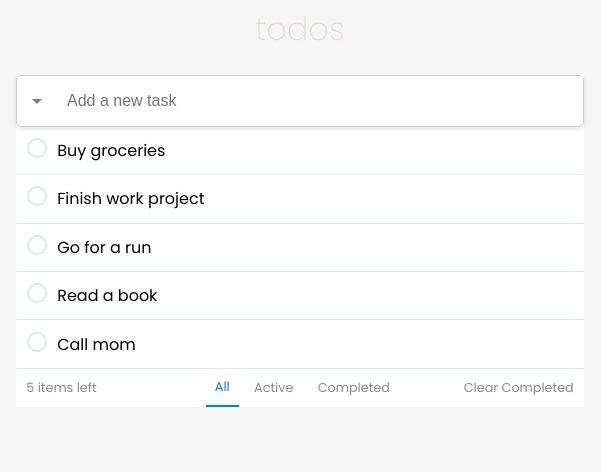
Test: Notes App funcionality › should add a new note
In the field with id "new-note-input": (317, 101) x1=59 y1=84 x2=575 y2=118, type "New Note"
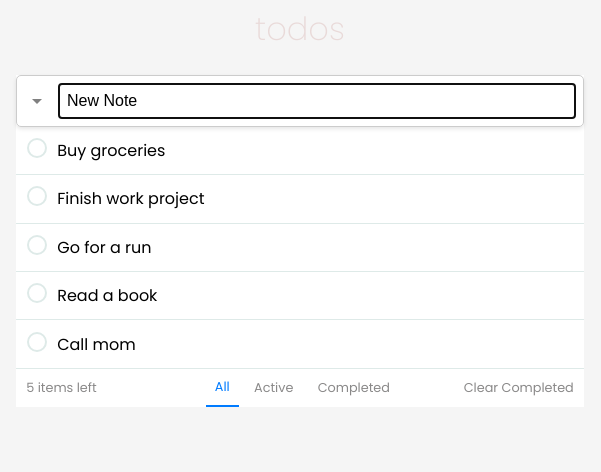
Submit the form with id "add-note-form", box x1=16 y1=75 x2=584 y2=127
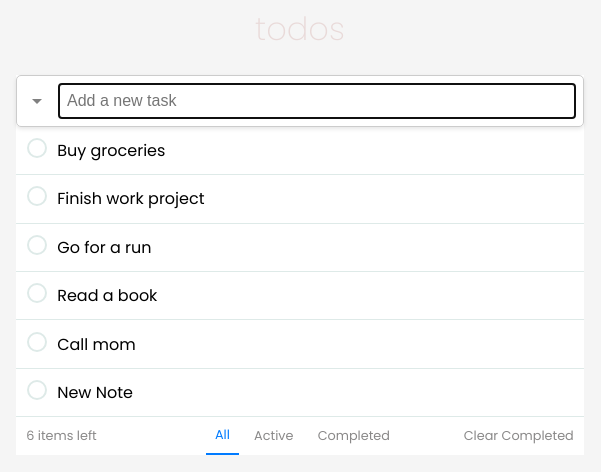
Now the checkbox "New Note" is shown, box x1=27 y1=380 x2=133 y2=405
